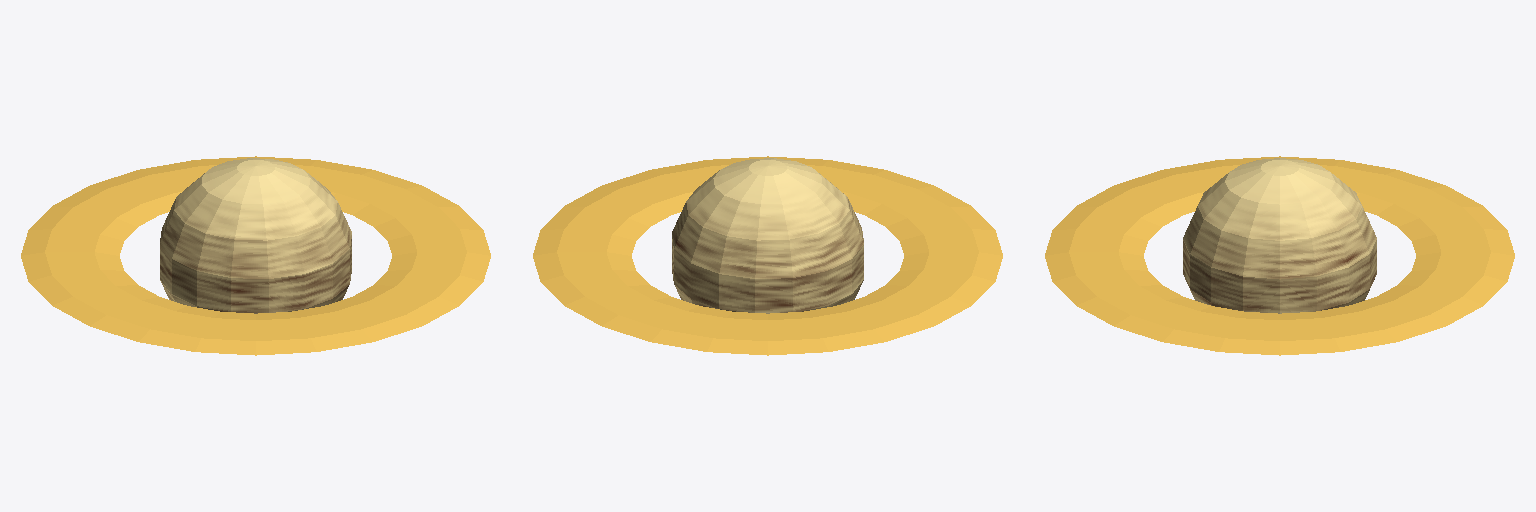
The picture shows the model from 3 angles: view 1: azimuth 30°, elevation 25°; view 2: azimuth 150°, elevation 25°; view 3: azimuth 270°, elevation 25°; orthographic projection.
Visible parts, largest first — view 1: Torus, Sphere; view 2: Torus, Sphere; view 3: Torus, Sphere.
Boxes of the visible parts, <box> form: Torus: <box>21,156,490,355</box>; Sphere: <box>160,158,351,313</box>; Torus: <box>533,156,1002,355</box>; Sphere: <box>672,158,863,313</box>; Torus: <box>1045,156,1514,355</box>; Sphere: <box>1183,158,1376,313</box>.
Bounding box in the file's own units: 4.75 × 2 × 4.75.
2 materials, 1 textured.